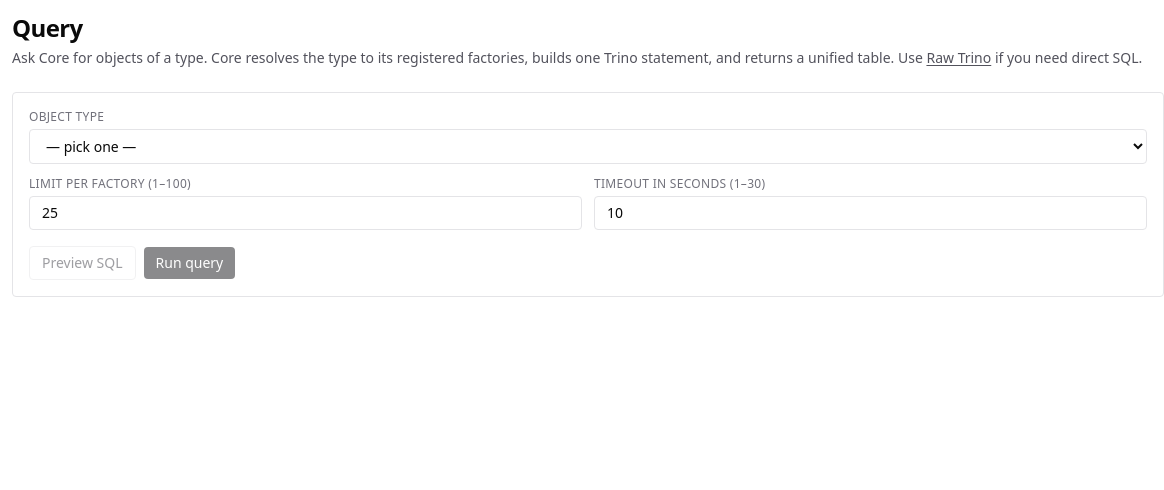
Test case: Query page › preview shows the SQL and which factories would be used
The width and height of the screenshot is (1164, 490).
Select "Company" in the dropdown with test id "from-select" at (588, 146), box [29,129,1147,164]
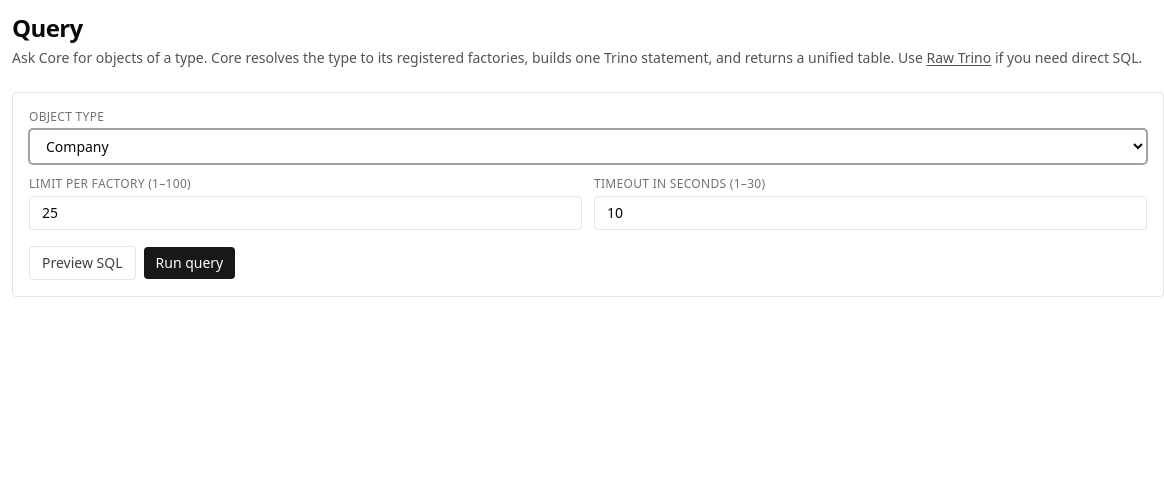
Click the button with test id "preview-button" at (82, 263), box [29,246,136,280]
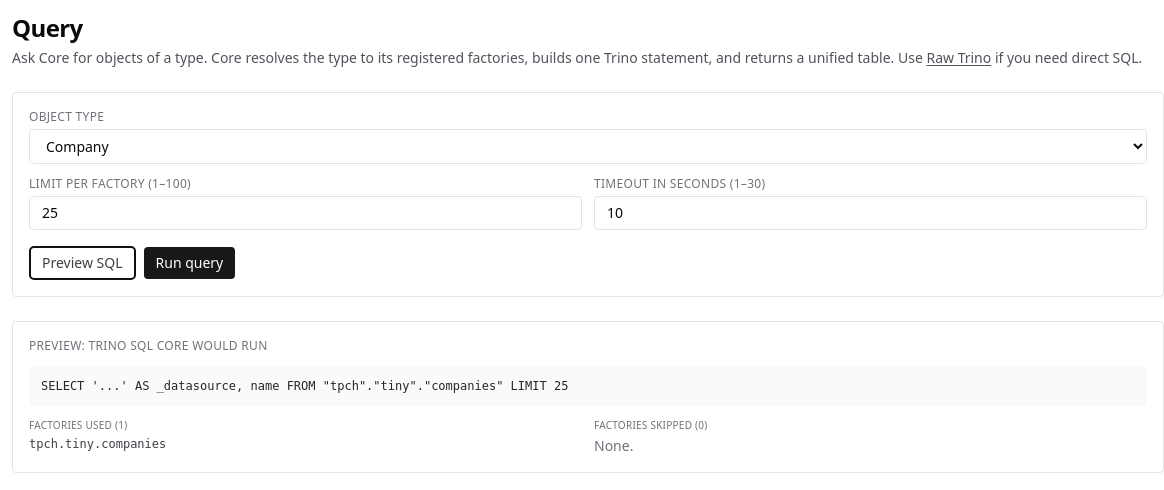
Expected: the element with test id "preview-panel" is shown, [12,321,1163,473]
Expected: the text with test id "preview-sql" shows "SELECT", [41,379,568,393]
Expected: the list with test id "factories-used" reads "tpch.tiny.companies", [29,436,166,452]
